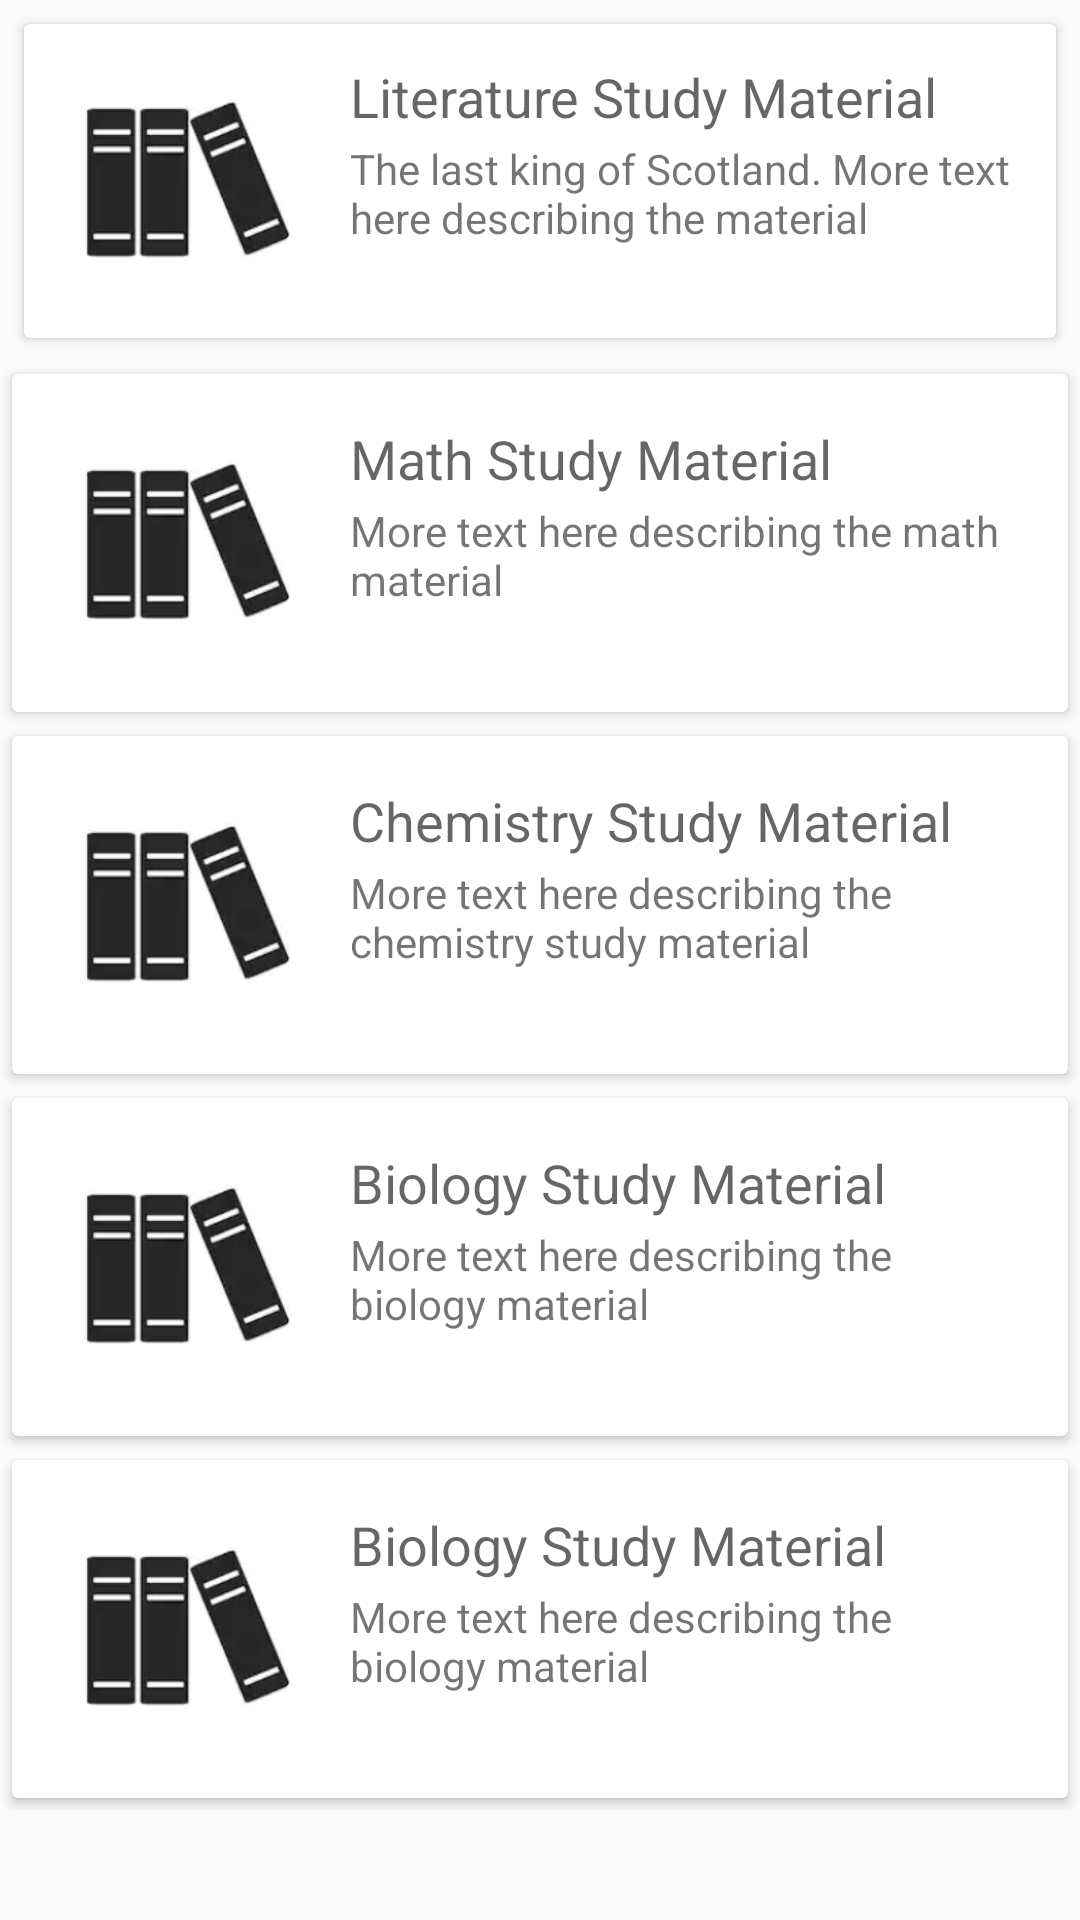

Icon bounding boxes for this 1080px×1920px phone screenshot, format (x1, y1, x2, y2):
books: (86, 102, 290, 257), (86, 464, 290, 619), (86, 826, 290, 981), (86, 1188, 290, 1343), (86, 1550, 290, 1705)
